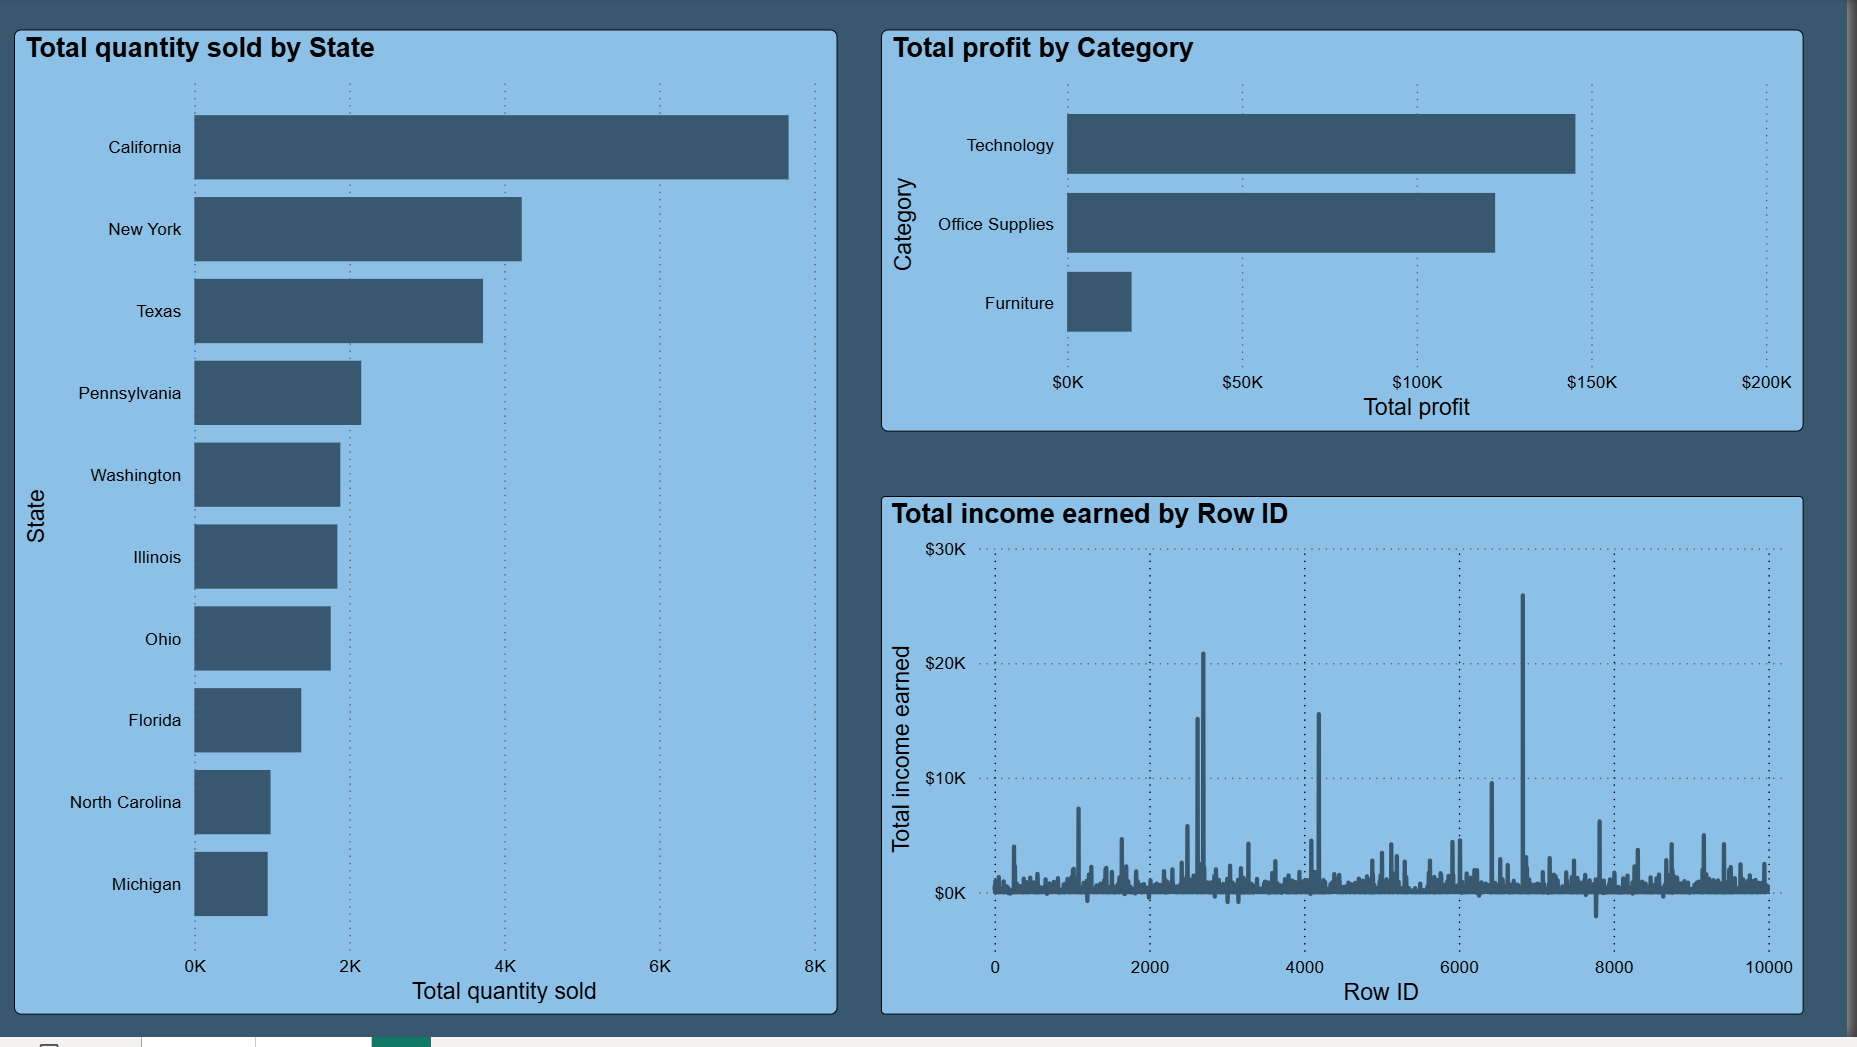

What the dashboard file says about the page in this screenshot:
{"tool":"powerbi","page":{"name":"Page 2","canvas":[1280,720],"ordinal":1},"visuals":[{"type":"clusteredBarChart","fields":{"Category":["Orders.State"],"Y":["Orders.Total quantity sold"]},"box":[10.4,21.8,570.7,682.9],"z":0},{"type":"clusteredBarChart","fields":{"Category":["Orders.Category"],"Y":["Orders.Total profit"]},"box":[611.2,21.8,639.3,278.6],"z":1000},{"type":"stackedAreaChart","fields":{"Category":["Orders.Row ID","Orders.Order ID","Orders.Order Date","Orders.Ship Date","Orders.Ship Mode","Orders.Customer ID","Orders.Customer Name","Orders.Segment","Orders.Country","Orders.City","Orders.State","Orders.Postal Code"],"Y":["Orders.Total income earned"]},"box":[611.2,345.1,639.3,359.7],"z":2000}]}

Visuals, with their boxes in screenshot pixels (x1, y1, x2, y2), scaled from the page's 1280x720 canvas onto the 1857x1047 screenshot:
clusteredBarChart - Orders.State x Orders.Total quantity sold: Rect(15, 32, 843, 1025)
clusteredBarChart - Orders.Category x Orders.Total profit: Rect(887, 32, 1814, 437)
stackedAreaChart - Orders.Row ID x Orders.Order ID: Rect(887, 502, 1814, 1025)
